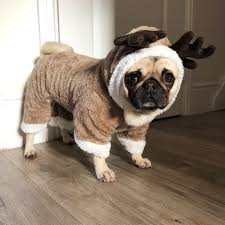dog: (100, 33, 189, 118)
